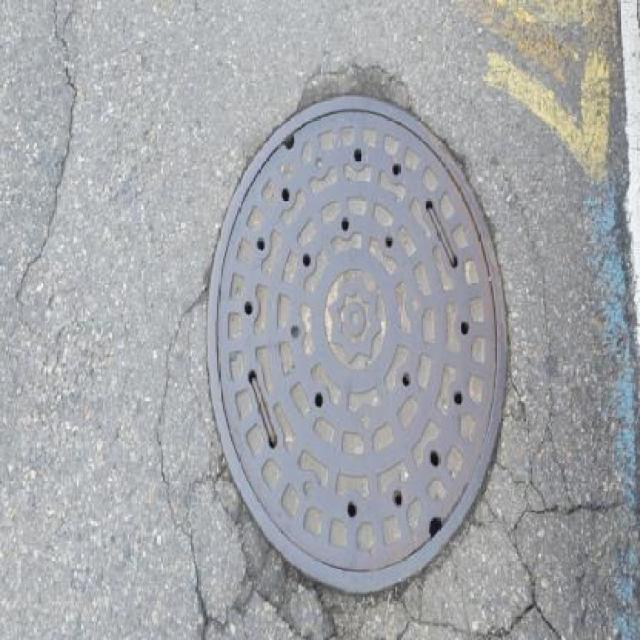Sewer Cover: (194, 66, 525, 598)
